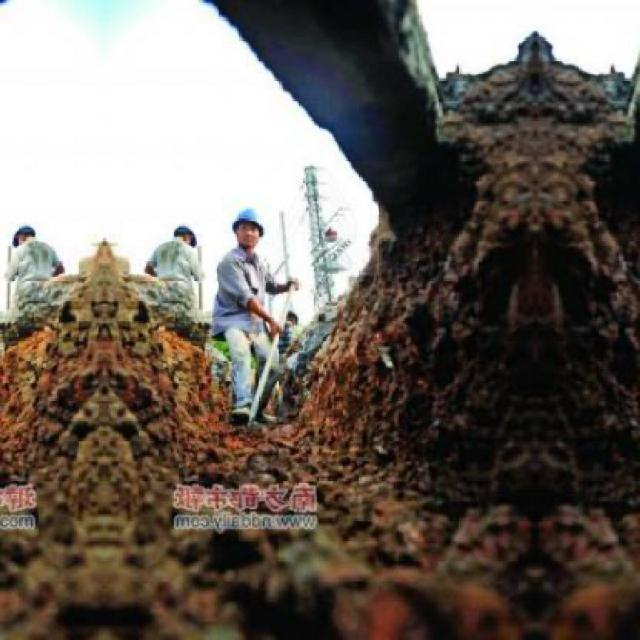helmet: (232, 200, 268, 255), (169, 215, 203, 260), (9, 215, 43, 260)
